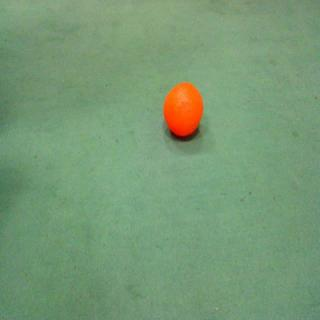orange: (163, 81, 209, 145)
